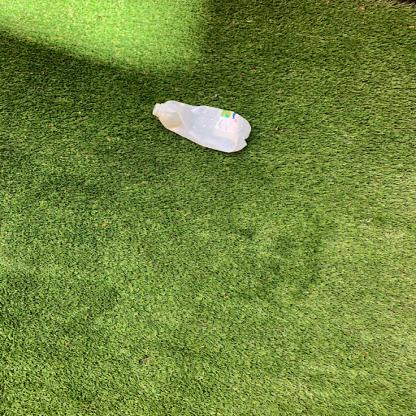trash: (150, 98, 251, 155)
